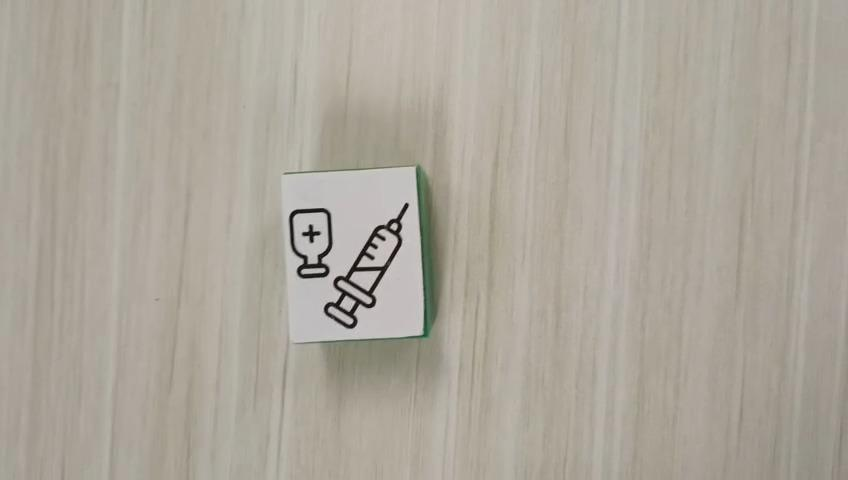antiseptic cream: (280, 163, 433, 343)
